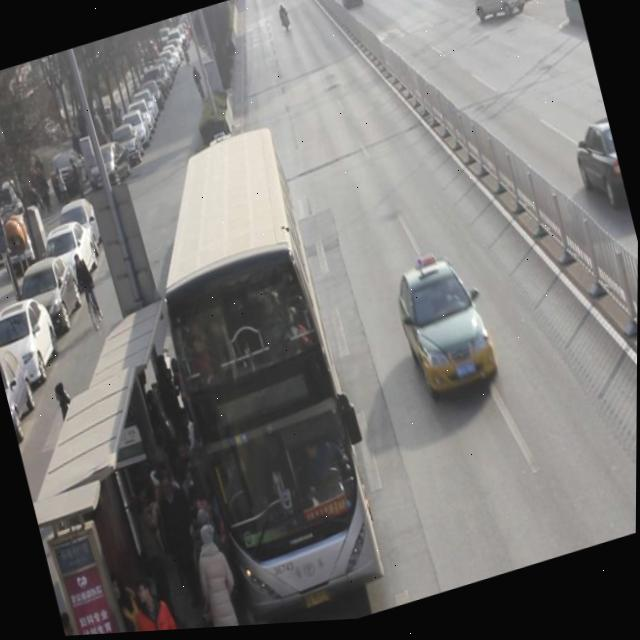car: (387, 249, 506, 418), (570, 126, 631, 229), (336, 0, 365, 19)
truck: (467, 0, 529, 39)
van: (125, 122, 389, 634)
